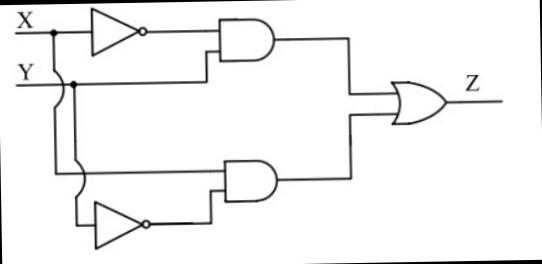and: (218, 154, 288, 210), (212, 13, 280, 68)
not: (85, 2, 149, 63), (89, 196, 156, 254)
or: (386, 75, 452, 133)
